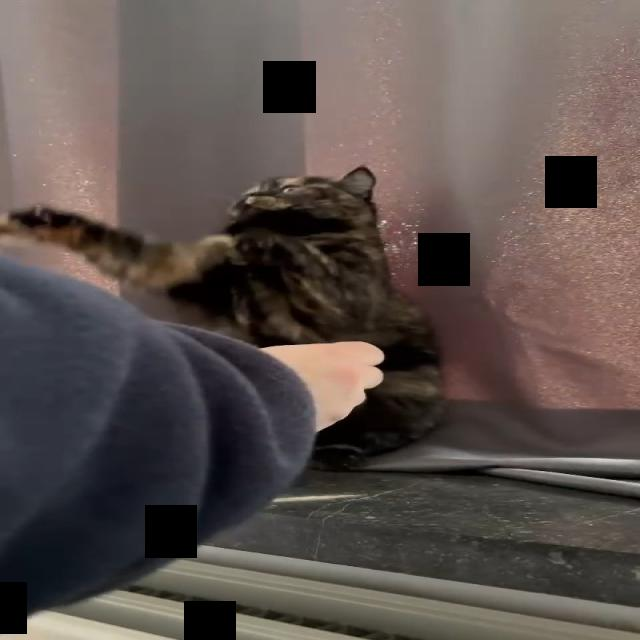authorized: (0, 164, 447, 470)
